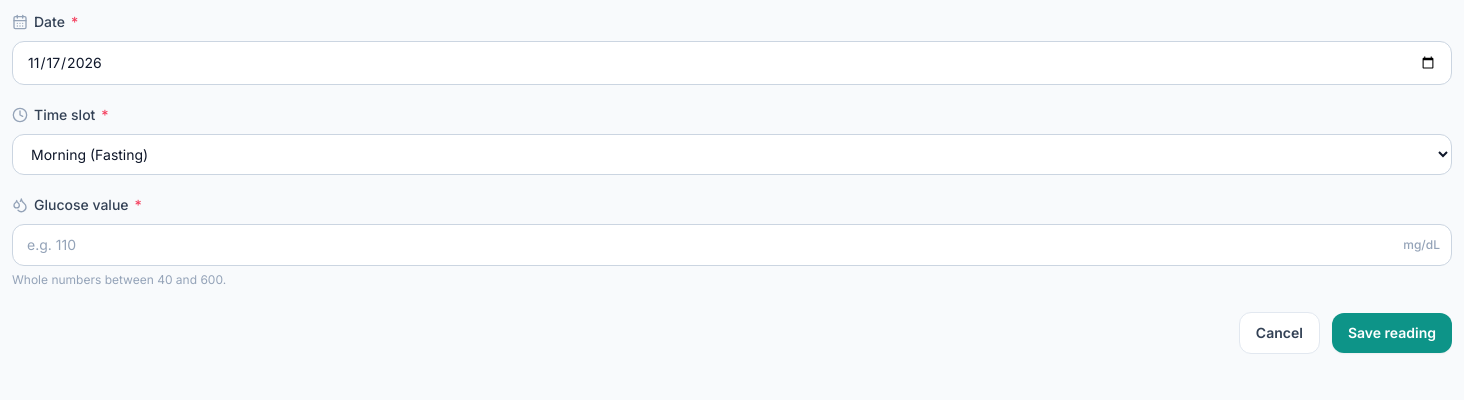
Scenario: ReadingForm - validation › rejects a value below 40
The width and height of the screenshot is (1464, 400).
Step 1. Type "39" into the field labelled "Glucose value *" → (732, 245), box [12,224,1452,266]
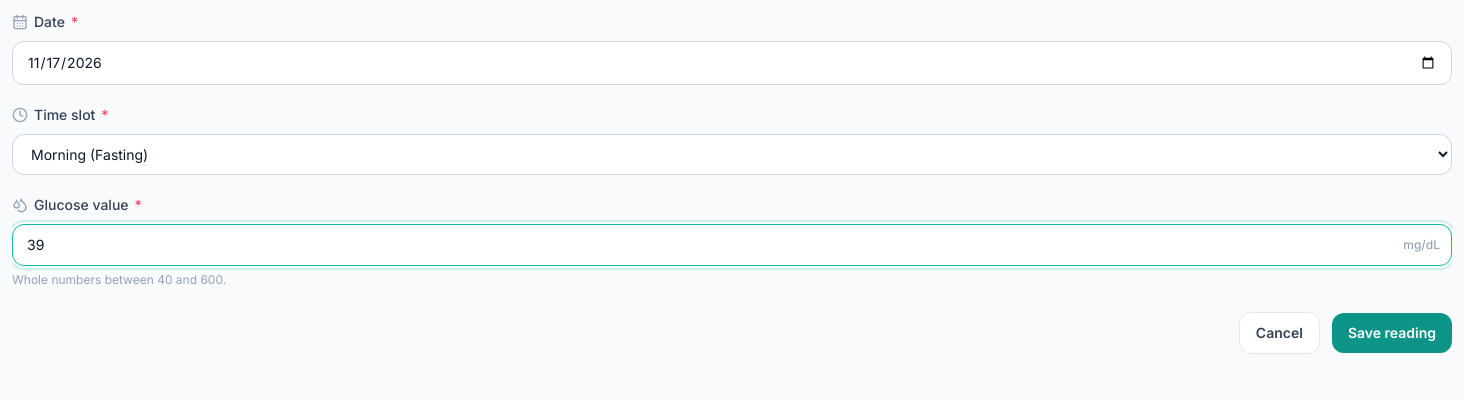
Step 2. Click the button "Save reading" → (1392, 333), box [1332,313,1452,353]
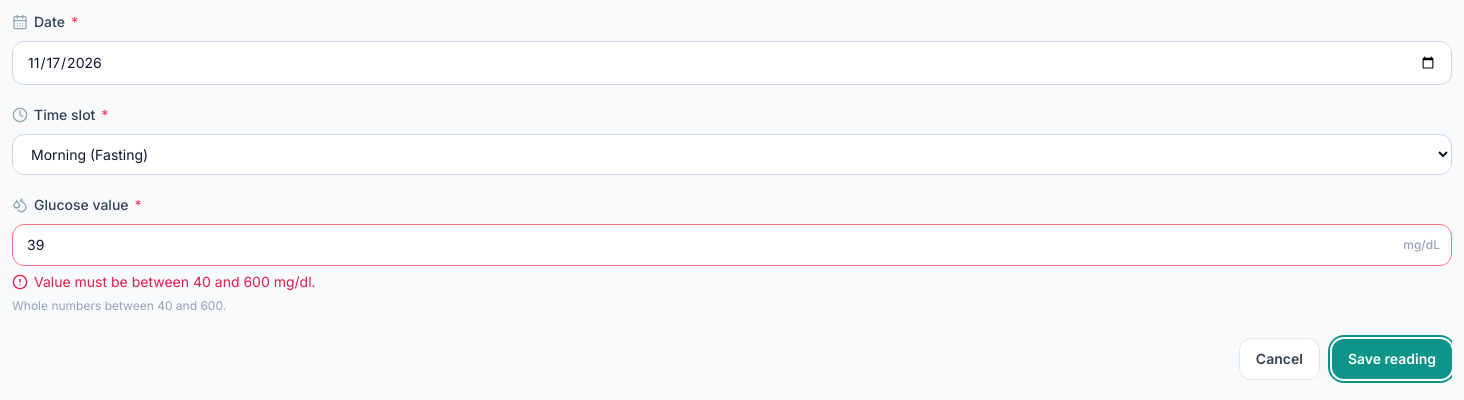
expect the text "Value must be between 40 and 600 mg/dl." is shown: met, box [12,273,316,290]
